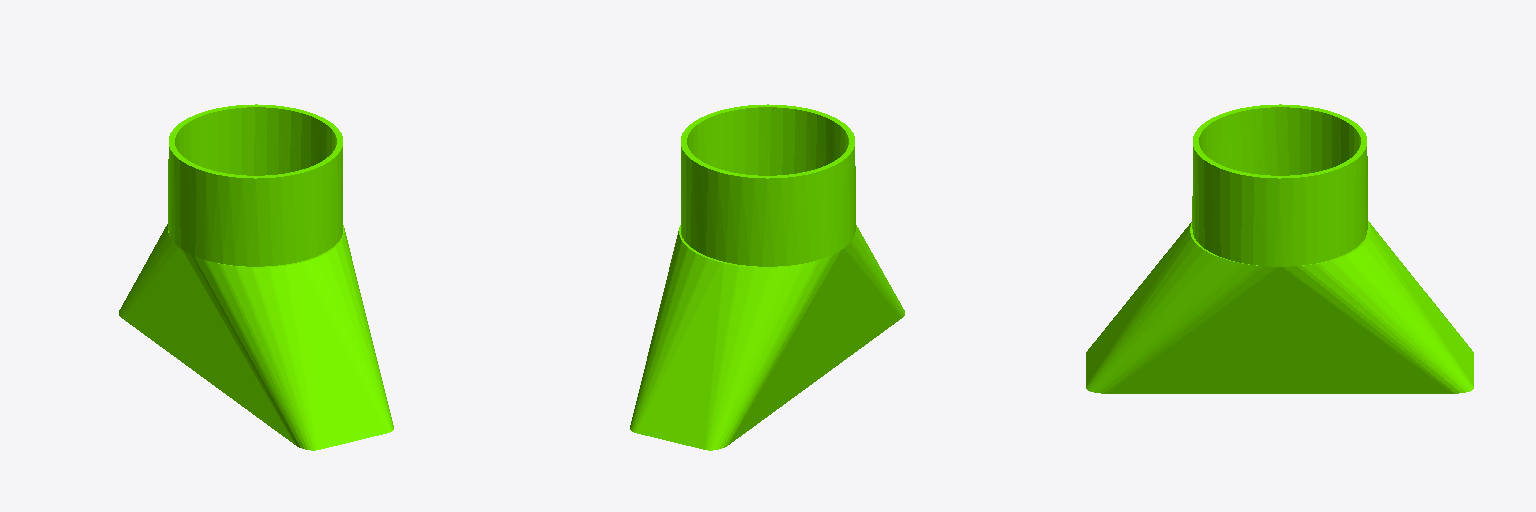
File: suporteV7.obj
The picture shows the model from 3 angles: view 1: azimuth 30°, elevation 25°; view 2: azimuth 150°, elevation 25°; view 3: azimuth 270°, elevation 25°; orthographic projection.
Parts seen in each view (by area): view 1: Solid1; view 2: Solid1; view 3: Solid1.
Part boxes in pixels (x1,y1,x2,y2): Solid1: (119,104,393,450); Solid1: (630,104,904,450); Solid1: (1086,104,1473,393).
Size of the model in its own units: 5.4 by 7.78 by 11.98.